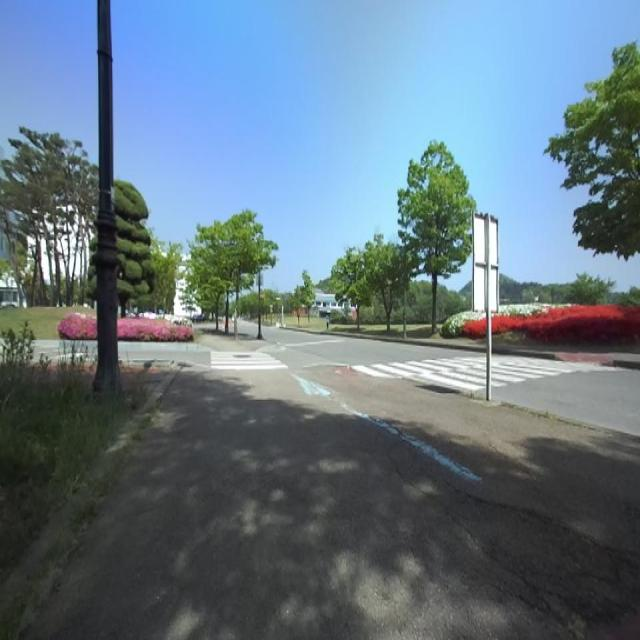sidewalk: (26, 368, 640, 638)
